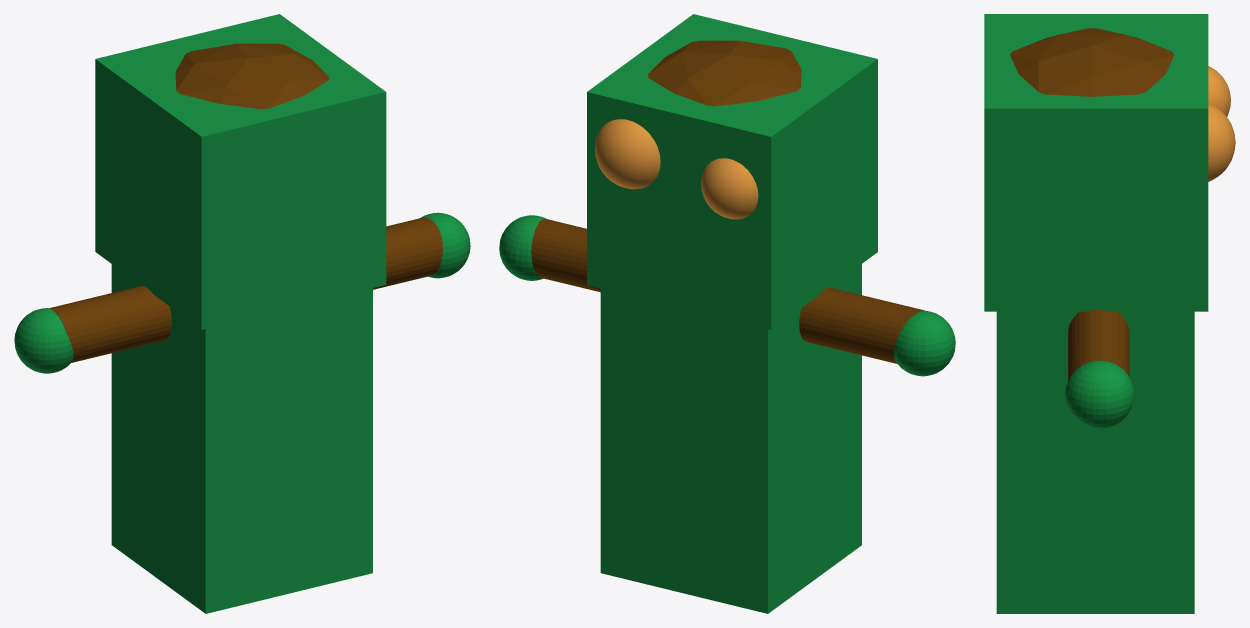
The model's file is zomb.fbx.
3 renders of one model, left to right at view 1: azimuth 30°, elevation 25°; view 2: azimuth 150°, elevation 25°; view 3: azimuth 270°, elevation 25°, orthographic. The views are drawn at different scales.
Parts seen in each view (by area): view 1: Cube; view 2: Cube; view 3: Cube.
Part boxes in pixels (x1,y1,x2,y2): Cube: [14, 14, 470, 613]; Cube: [499, 14, 955, 613]; Cube: [984, 14, 1235, 613].
Bounding box in the file's own units: 379 × 406 × 175.
